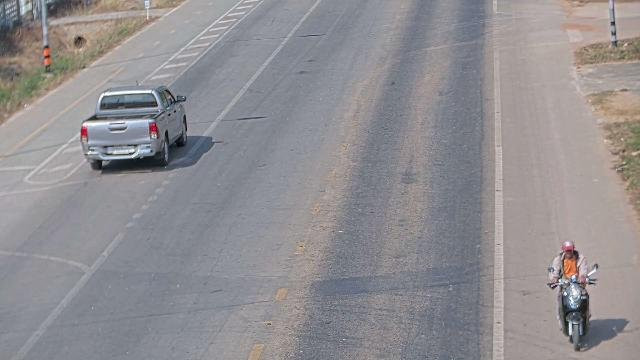motorcycle: (544, 247, 604, 350)
pickup-truck: (79, 83, 188, 170)
